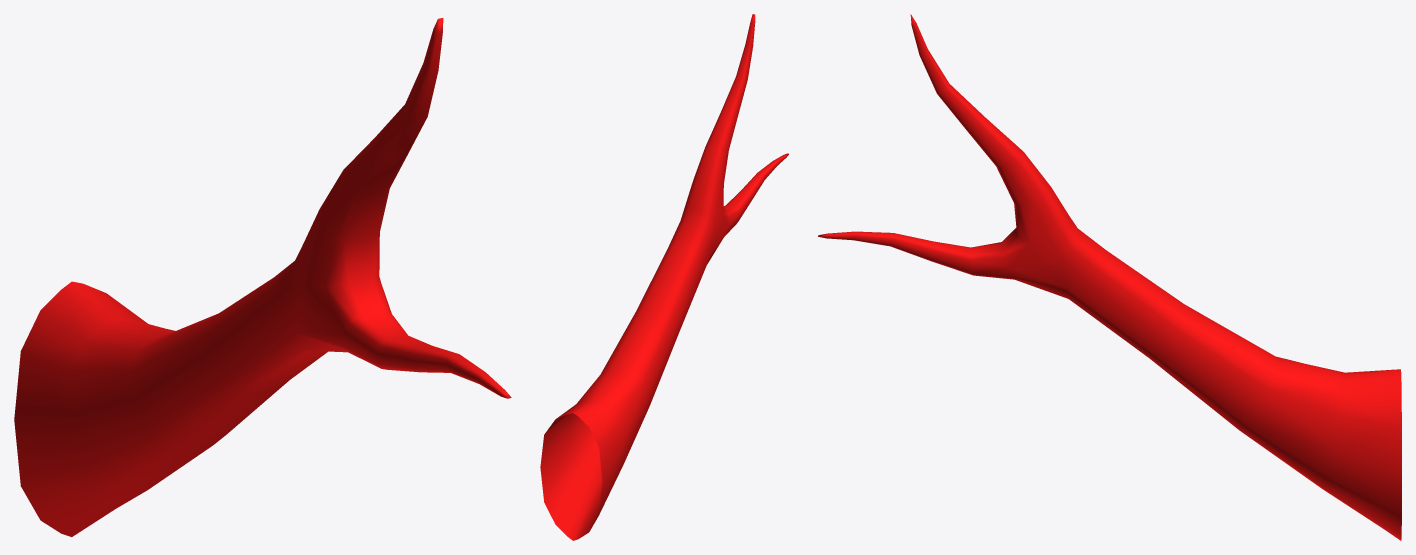
File: Tree_Branch.fbx
3 renders of one model, left to right at view 1: azimuth 30°, elevation 25°; view 2: azimuth 150°, elevation 25°; view 3: azimuth 270°, elevation 25°, orthographic. The views are drawn at different scales.
Parts seen in each view (by area): view 1: Twig; view 2: Twig; view 3: Twig.
Part boxes in pixels (box(x1,y1,x2,y2)): Twig: box(14, 18, 511, 536); Twig: box(540, 14, 788, 540); Twig: box(818, 14, 1401, 540).
Size of the model in its own units: 11.15 by 68.28 by 68.02.
